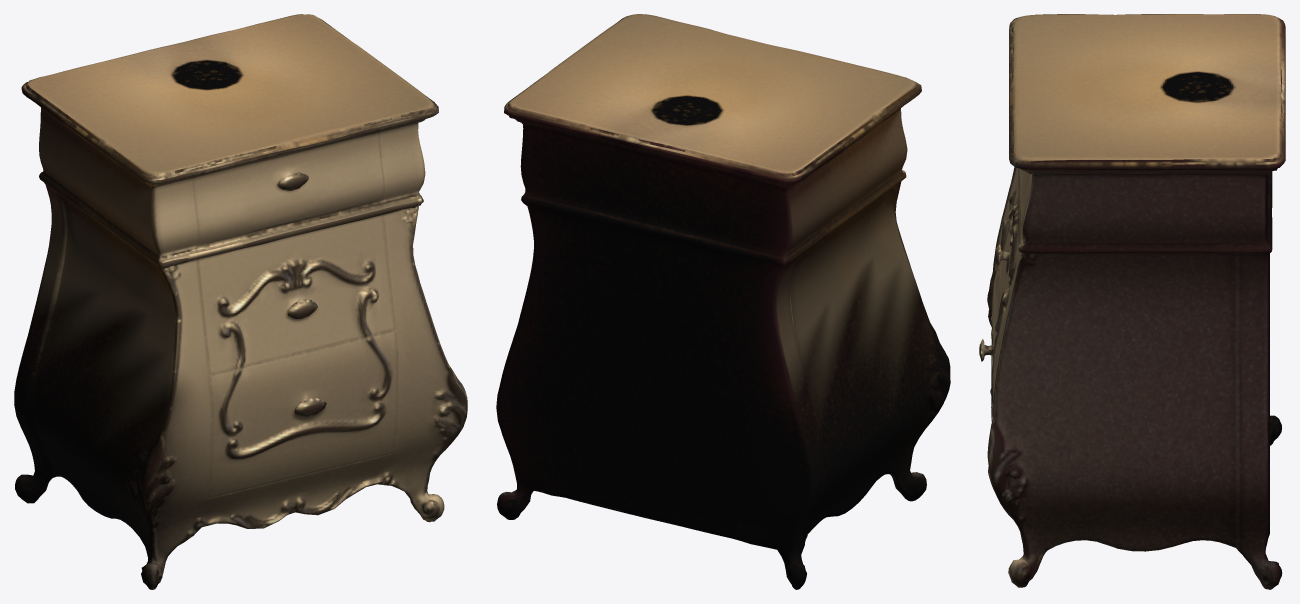
Rendered from nighttable2.obj.
The picture shows the model from 3 angles, left to right: view 1: azimuth 30°, elevation 25°; view 2: azimuth 150°, elevation 25°; view 3: azimuth 270°, elevation 25°; orthographic projection. The views are drawn at different scales.
Parts seen in each view (by area): view 1: nightTable2Baked BedroomBakedTriExport; view 2: nightTable2Baked BedroomBakedTriExport; view 3: nightTable2Baked BedroomBakedTriExport.
Part boxes in pixels (bbox=[...]): nightTable2Baked BedroomBakedTriExport: bbox=[14, 14, 467, 589]; nightTable2Baked BedroomBakedTriExport: bbox=[496, 14, 950, 589]; nightTable2Baked BedroomBakedTriExport: bbox=[979, 14, 1285, 589].
Bounding box in the file's own units: 0.7949 × 0.9629 × 0.6211.
1 material, 1 textured.
